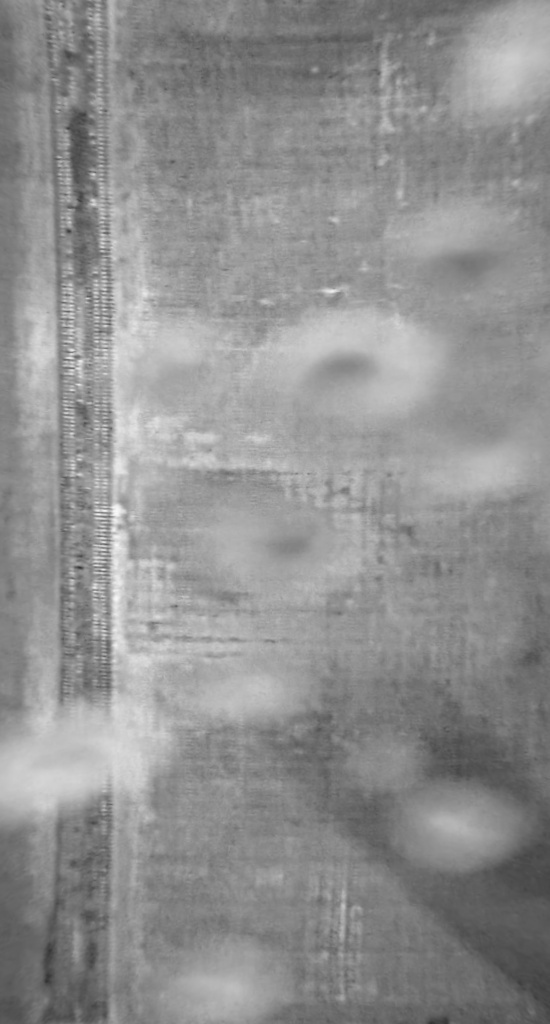splice: (36, 1, 133, 1023)
